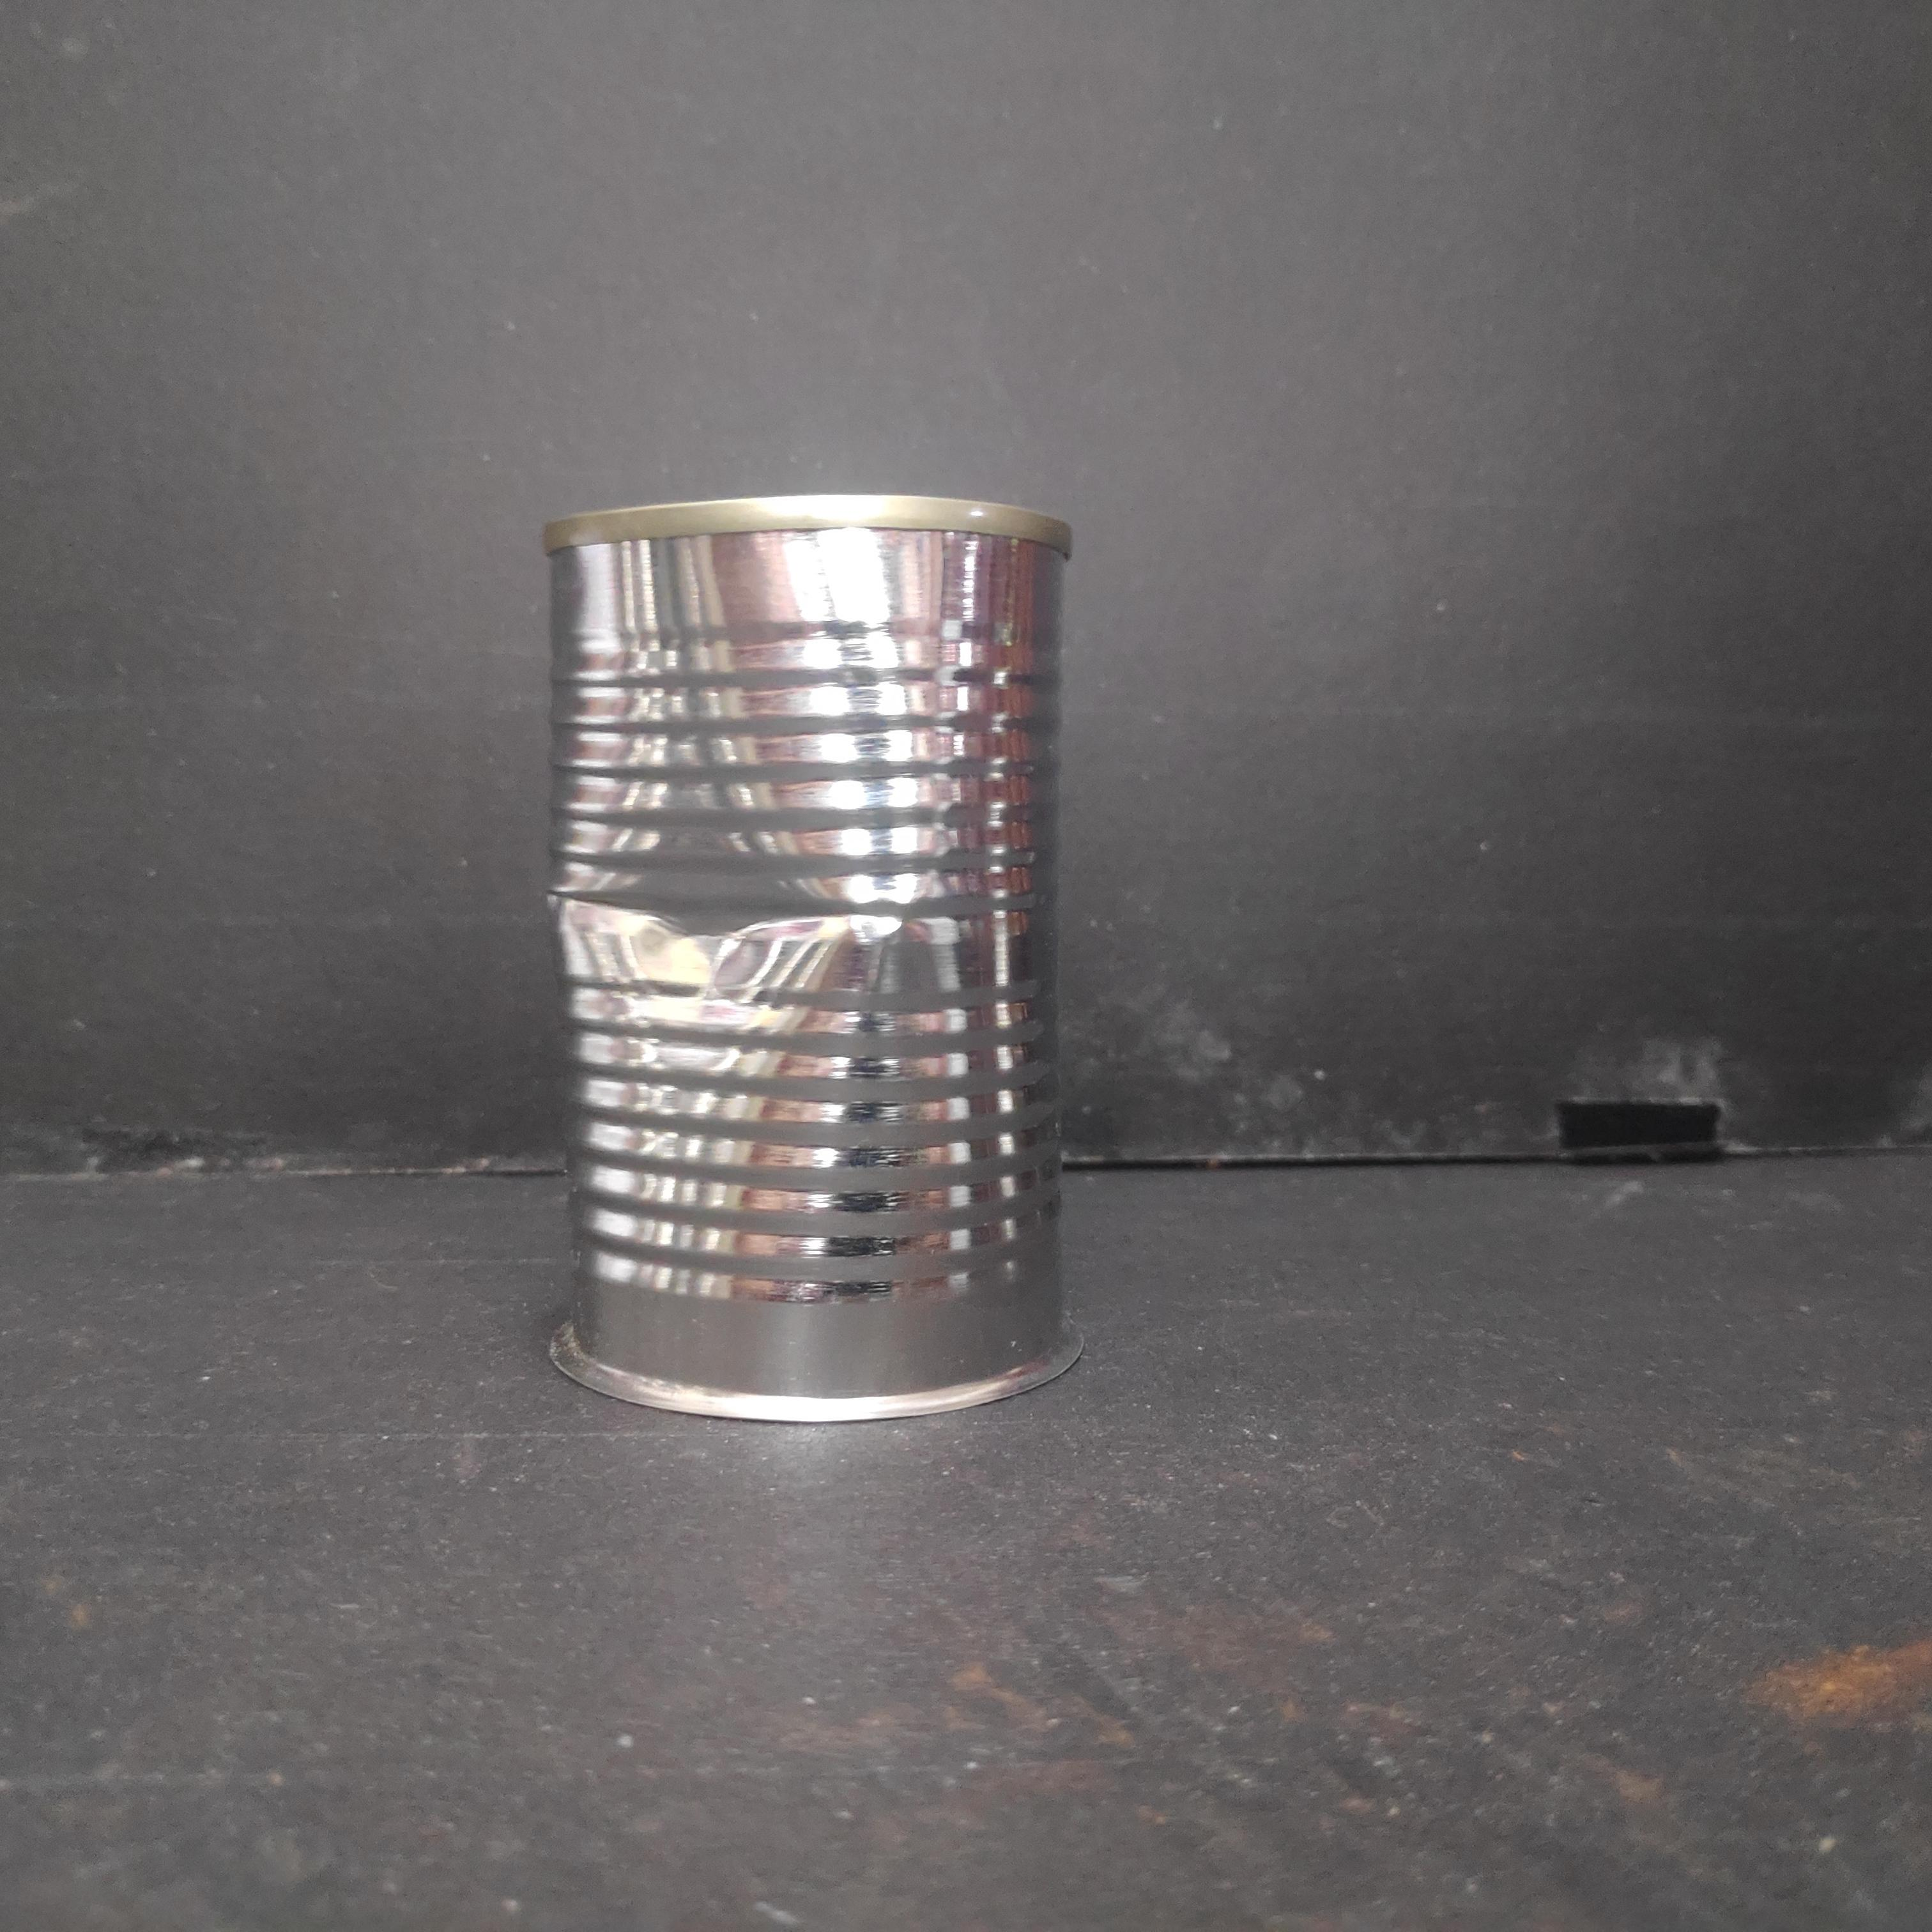Minor Defect: (532, 489, 1085, 1430)
